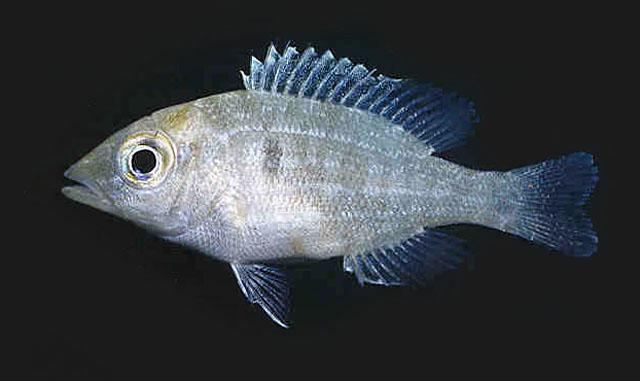Mulut: (49, 152, 103, 228)
Sirip Anal: (335, 225, 473, 297)
Sirip Ekor: (496, 133, 606, 278)
Sirip Perut: (226, 254, 302, 334)
Sirip Punggung: (228, 32, 484, 160)
